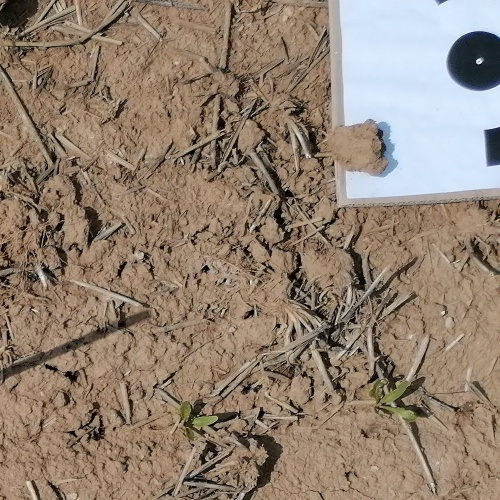beet: (372, 379, 417, 423), (176, 401, 217, 442)
